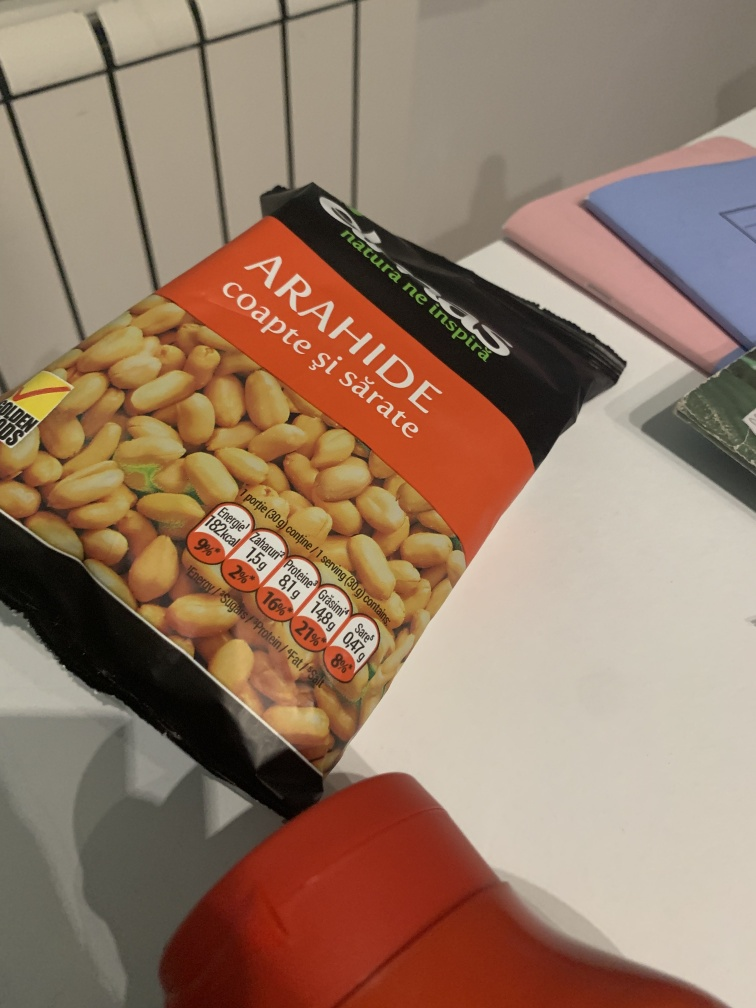peanuts: (2, 173, 631, 820)
